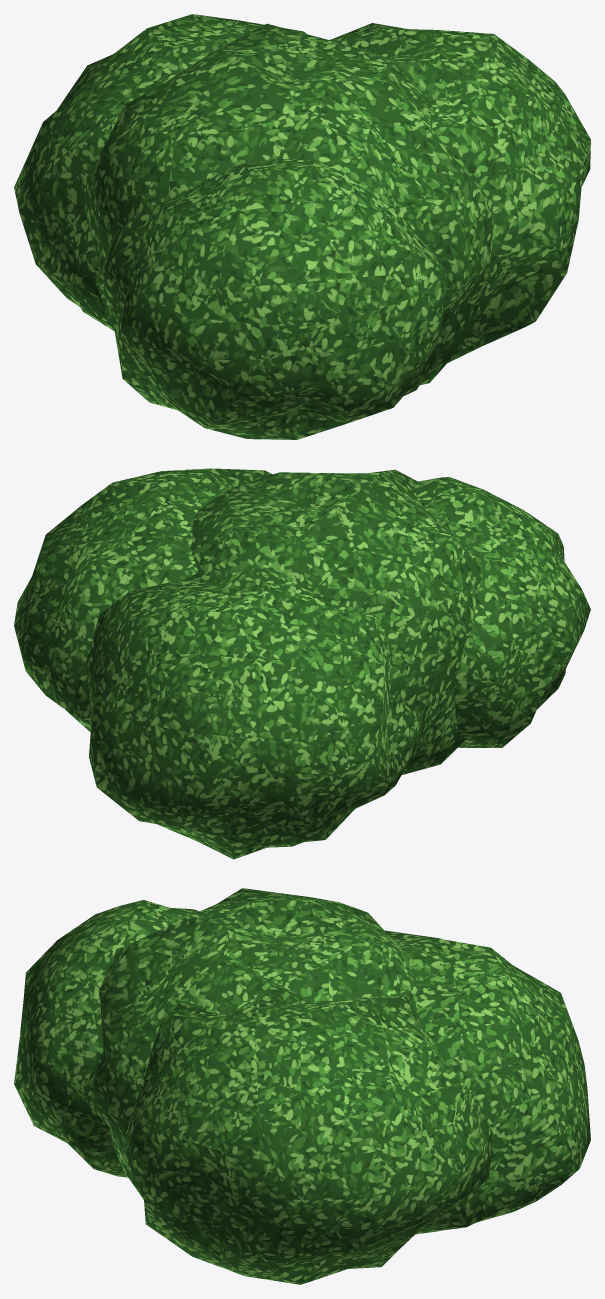
The model's file is bush_a.glb.
3 renders of one model, top to bottom at view 1: azimuth 30°, elevation 25°; view 2: azimuth 150°, elevation 25°; view 3: azimuth 270°, elevation 25°, orthographic. The views are drawn at different scales.
Visible parts, largest first — view 1: bush_a; view 2: bush_a; view 3: bush_a.
Boxes of the visible parts, box(x1,y1,x2,y2) form: bush_a: box(14, 14, 590, 439); bush_a: box(14, 468, 590, 859); bush_a: box(14, 888, 590, 1284).
Size of the model in its own units: 2.05 by 1.27 by 2.14.
1 material, 1 textured.
